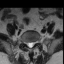CCS_normal: (29, 40, 31, 50)
LFS_normal: (34, 39, 36, 46)
LLS_normal: (31, 40, 34, 47)
RFS_normal: (24, 40, 27, 46)
RLS_normal: (26, 40, 29, 48)
